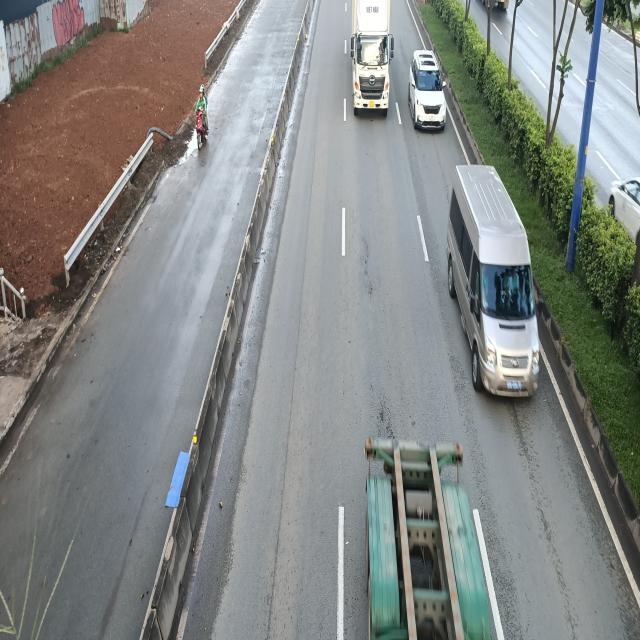car: (408, 50, 447, 131)
container: (363, 434, 493, 640)
truck: (352, 0, 394, 114)
van: (450, 168, 543, 402)
